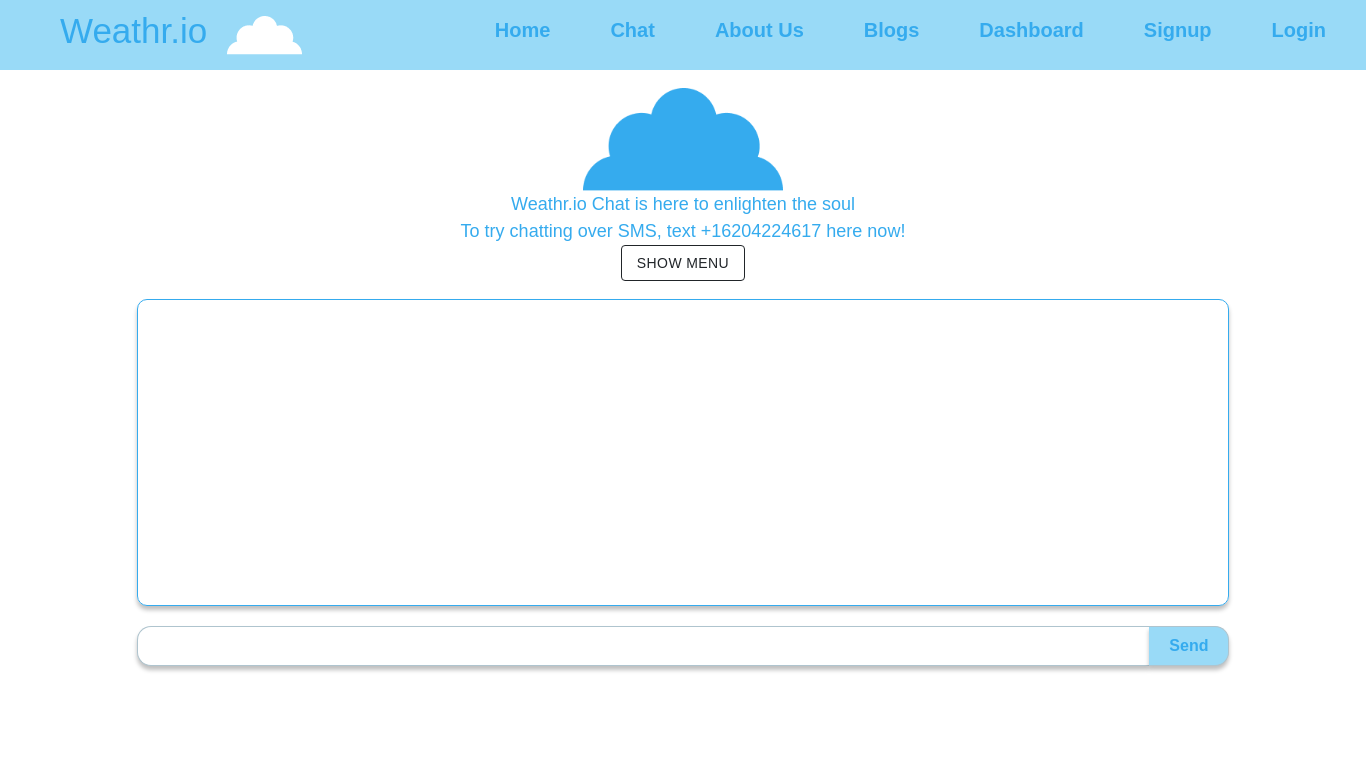
Test case: Chat Bot Page › correctly displays menu when pressed
Click the button with test id "menu-button".
click(683, 263)  # box [621, 245, 745, 281]
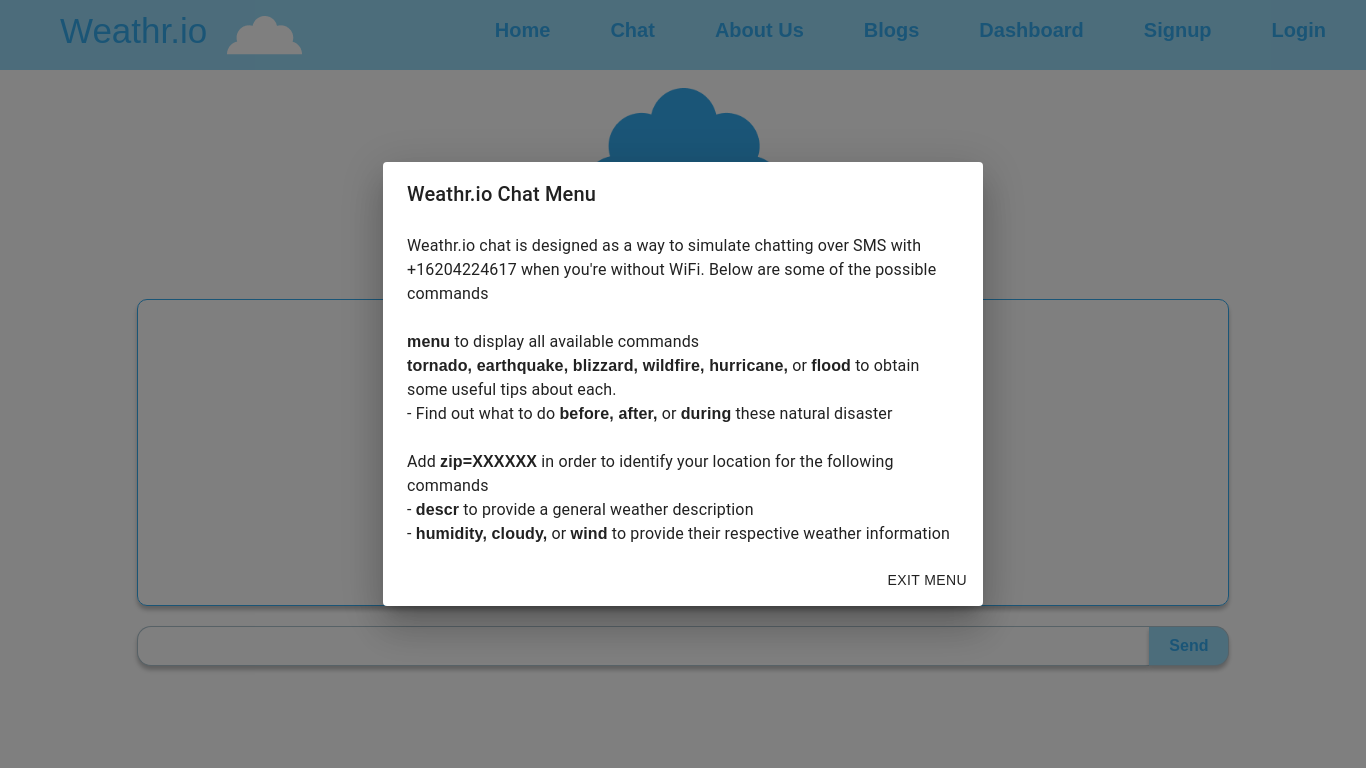
Check: the element with test id "menu-title" is shown, box [407, 182, 596, 206]
